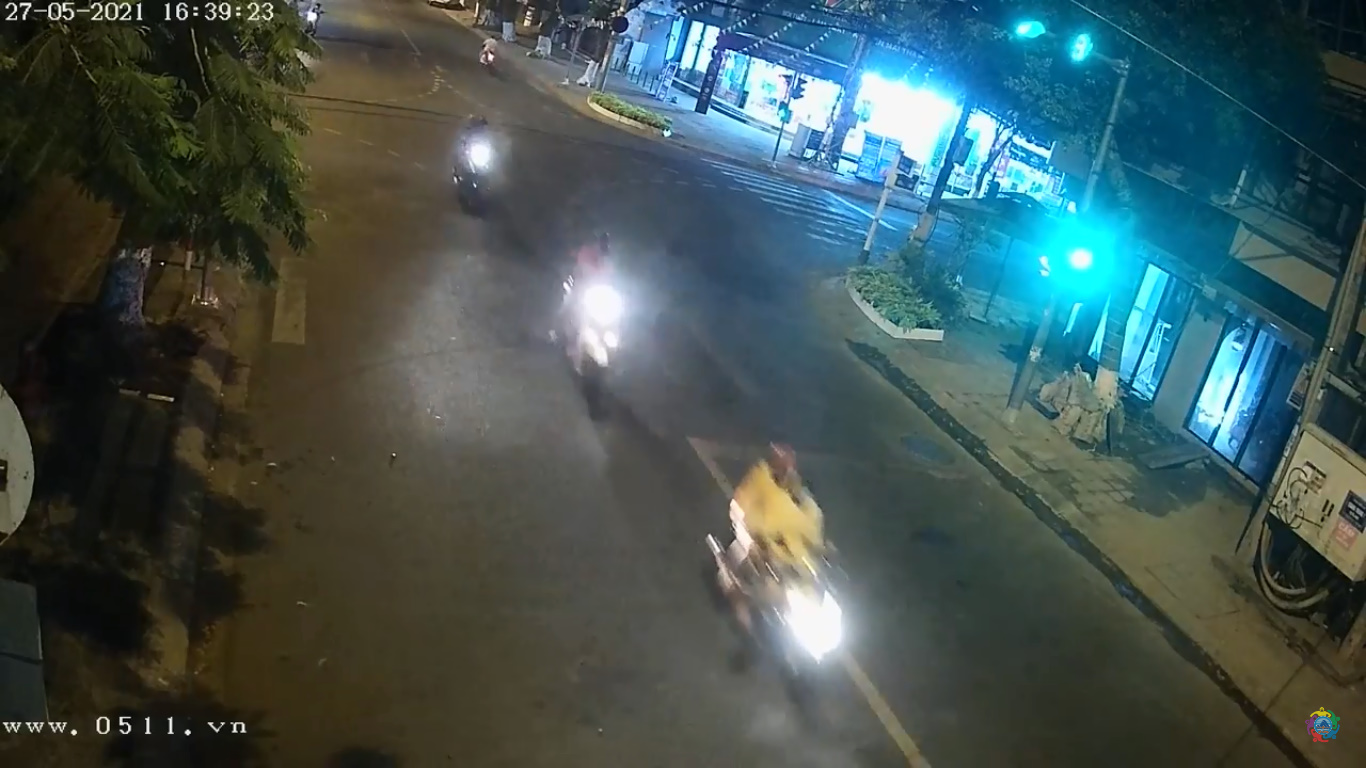motorbike: (694, 430, 867, 699), (534, 230, 658, 415), (447, 115, 503, 209)
